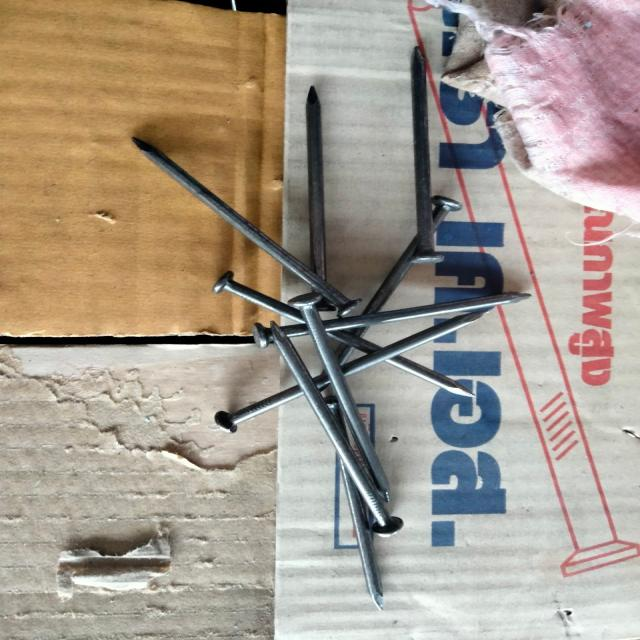3x8 nail: (189, 311, 436, 548), (122, 126, 390, 323), (388, 37, 469, 273)
